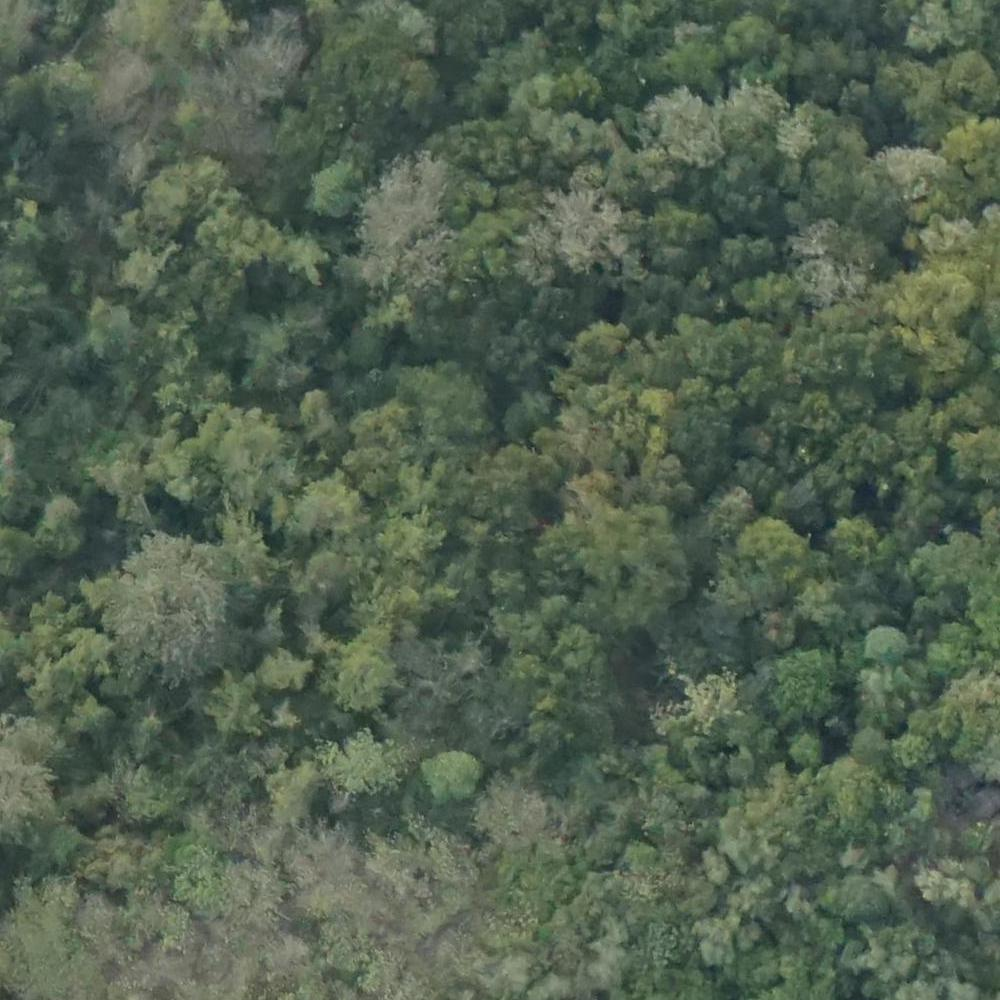tree: (109, 550, 211, 654), (776, 645, 851, 724), (474, 440, 553, 515), (740, 521, 811, 597), (329, 732, 401, 797), (831, 428, 896, 495), (202, 679, 263, 741), (329, 640, 382, 705), (264, 763, 319, 821), (727, 12, 780, 70), (837, 869, 892, 924), (423, 749, 481, 801), (944, 53, 998, 105), (722, 226, 770, 277), (835, 516, 877, 568), (260, 649, 302, 698), (894, 734, 935, 784), (31, 651, 70, 702), (699, 912, 738, 962), (69, 695, 112, 740), (848, 721, 897, 758), (309, 163, 345, 204), (267, 699, 302, 735), (790, 734, 829, 766), (863, 625, 893, 650)
